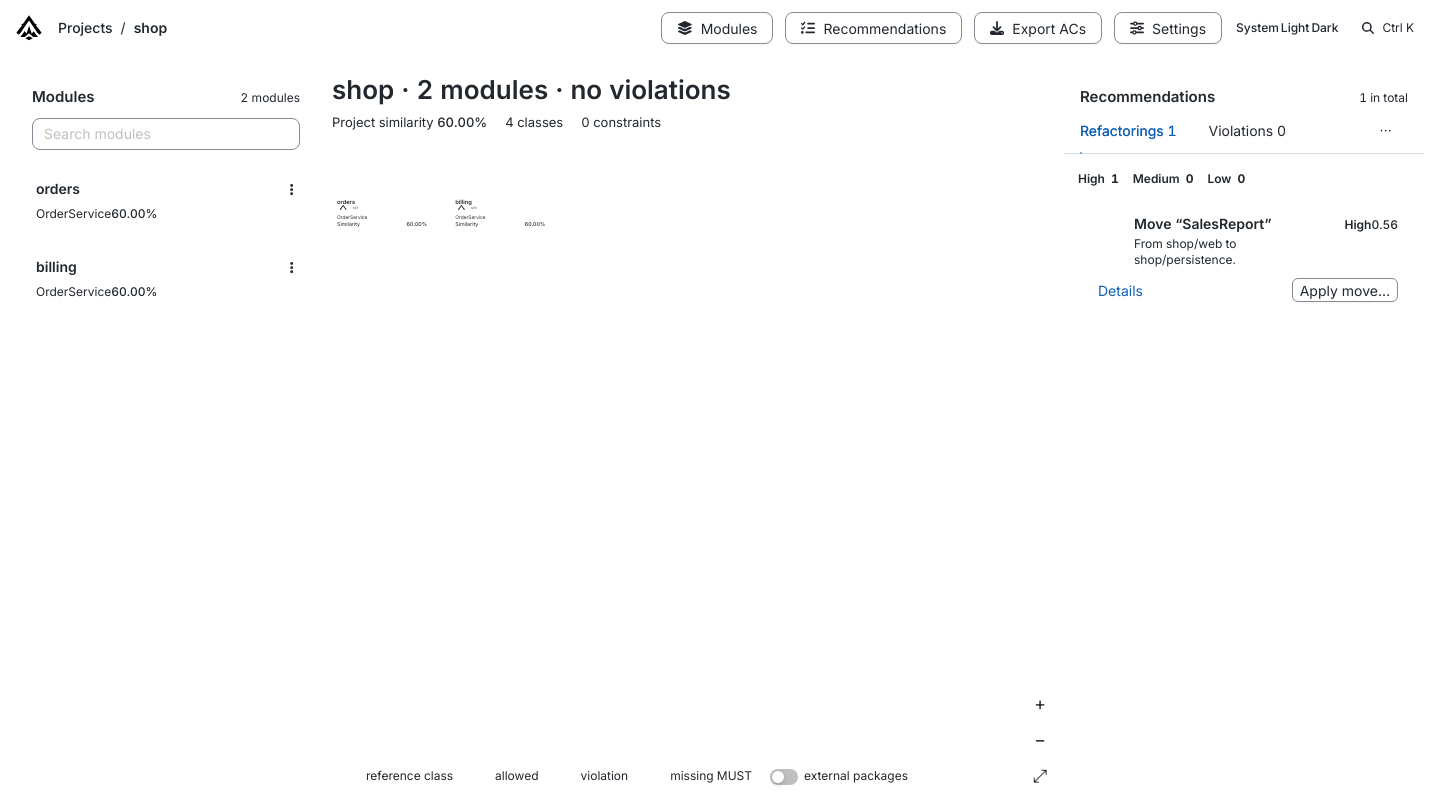
AnalyzePage › after a change made by hand in the modules panel › asks for the recommendations again after a rename
The width and height of the screenshot is (1440, 810).
Expected: the button "Apply move…" is shown, [1292,278,1398,302]
Click the button named "Actions for orders" at (292, 190), box [276,174,308,206]
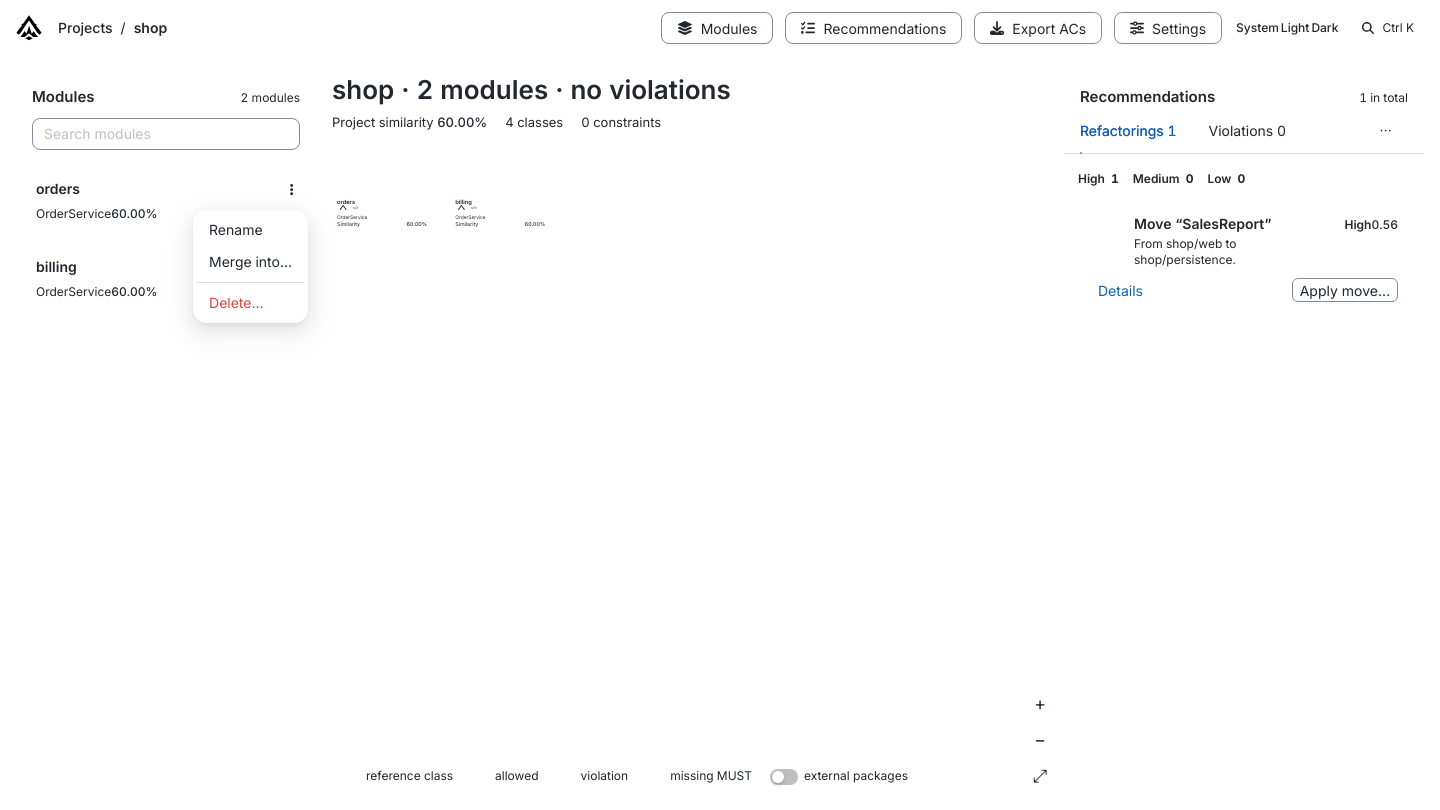
Click the menu item "Rename" at (236, 230), box [209,221,262,238]
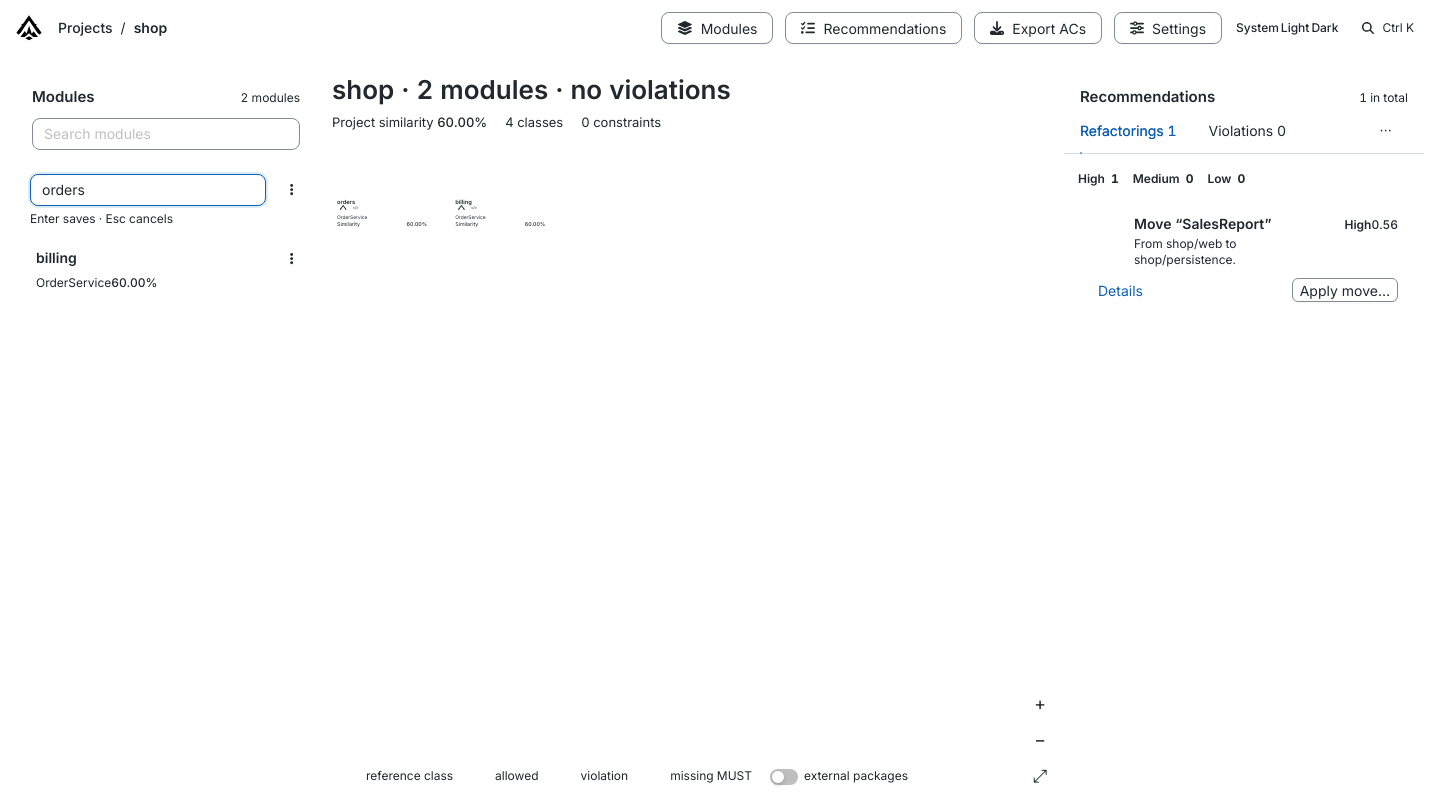
Replace the text in the field named "New name for orders" with "checkout" at (148, 190), box [30,174,266,206]
Then press Enter
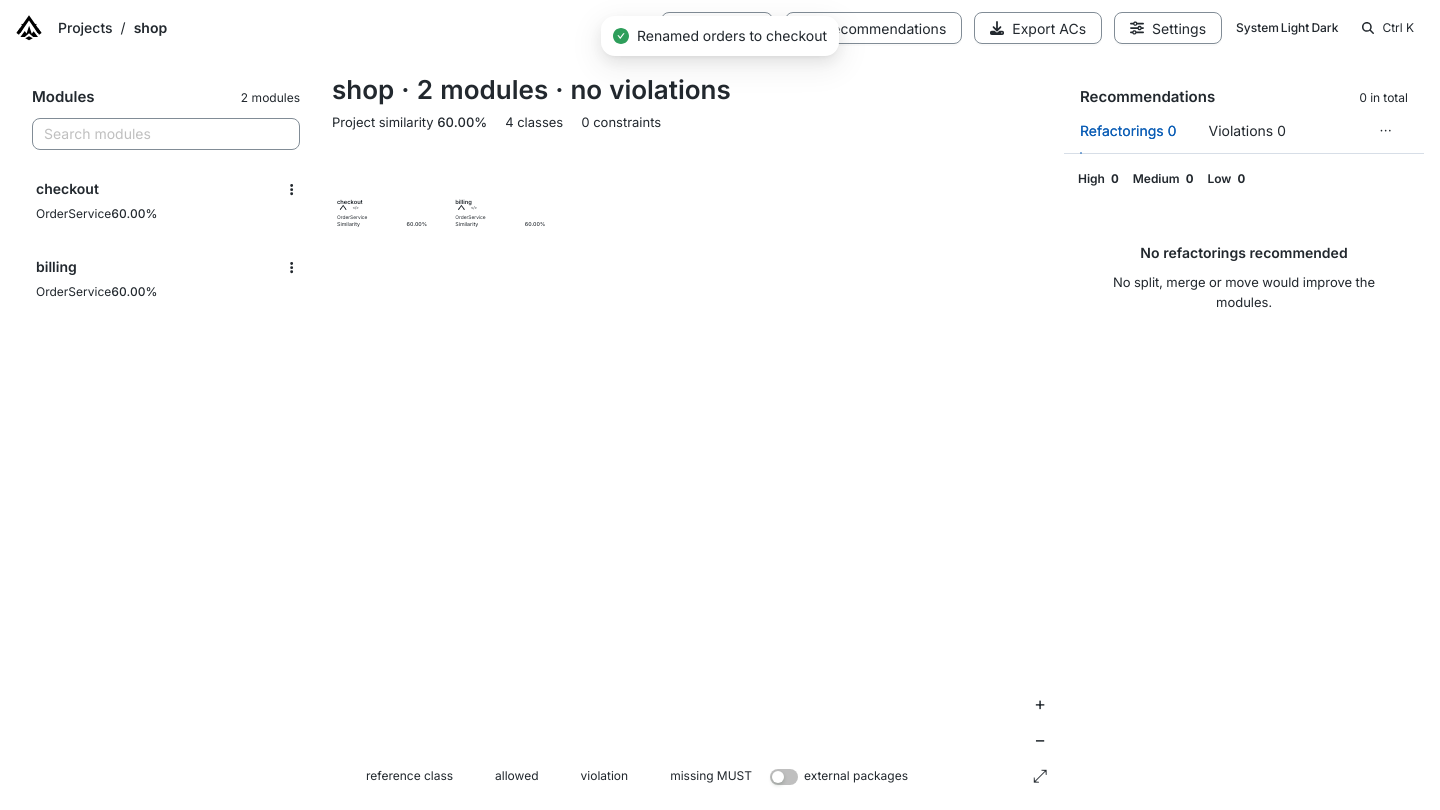
Result: the button "Apply move…" is gone
